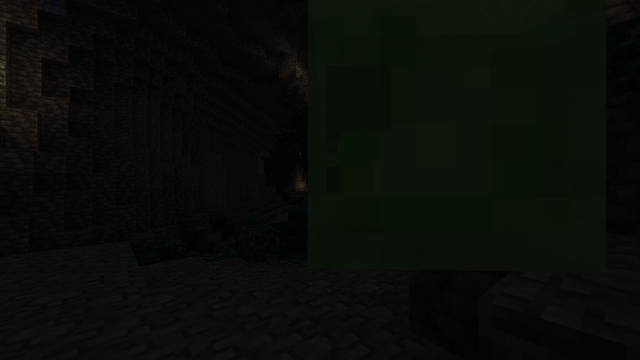slimes: (274, 0, 556, 303)
